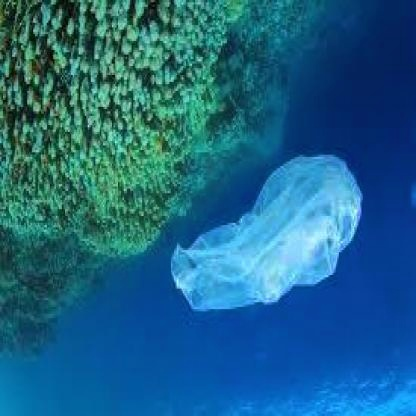pbag: (166, 148, 366, 325)
